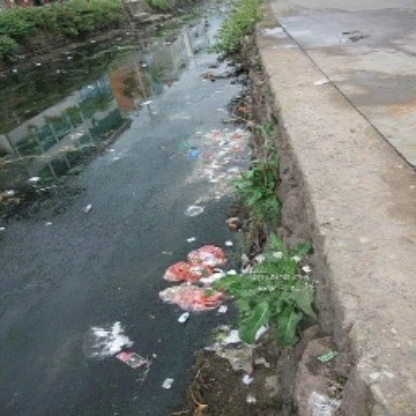plastic-bag: (83, 319, 133, 365)
